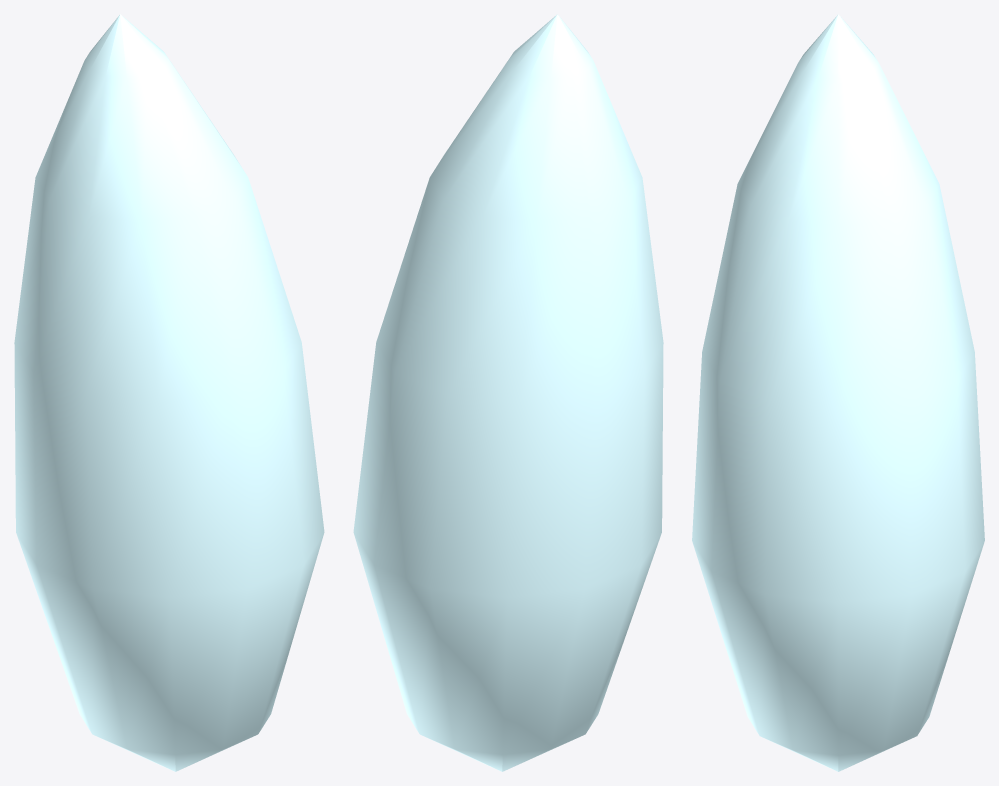
Rendered from dog_tail.glb.
The picture shows the model from 3 angles, left to right: view 1: azimuth 30°, elevation 25°; view 2: azimuth 150°, elevation 25°; view 3: azimuth 270°, elevation 25°; orthographic projection. The views are drawn at different scales.
Visible parts, largest first — view 1: Fluffy rising tail; view 2: Fluffy rising tail; view 3: Fluffy rising tail.
Boxes of the visible parts, <box> form: Fluffy rising tail: <box>14,14,324,771</box>; Fluffy rising tail: <box>353,14,663,771</box>; Fluffy rising tail: <box>692,14,984,771</box>.
Bounding box in the file's own units: 0.0586 × 0.16 × 0.058.
